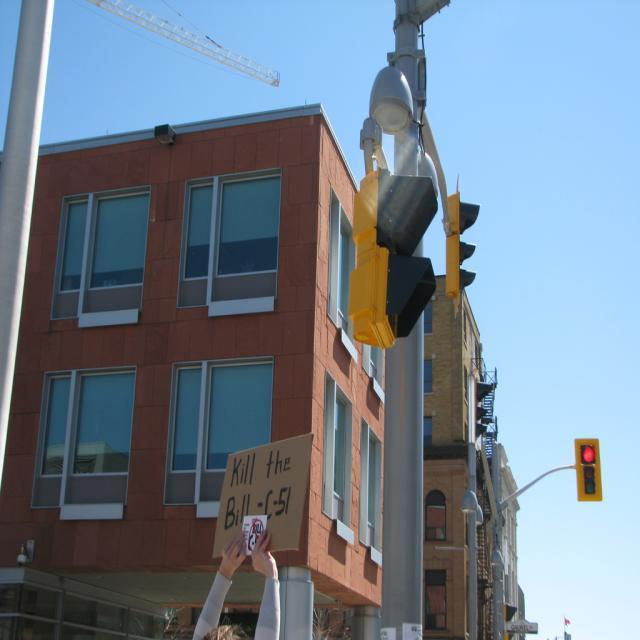traffic light: (581, 442, 599, 498)
